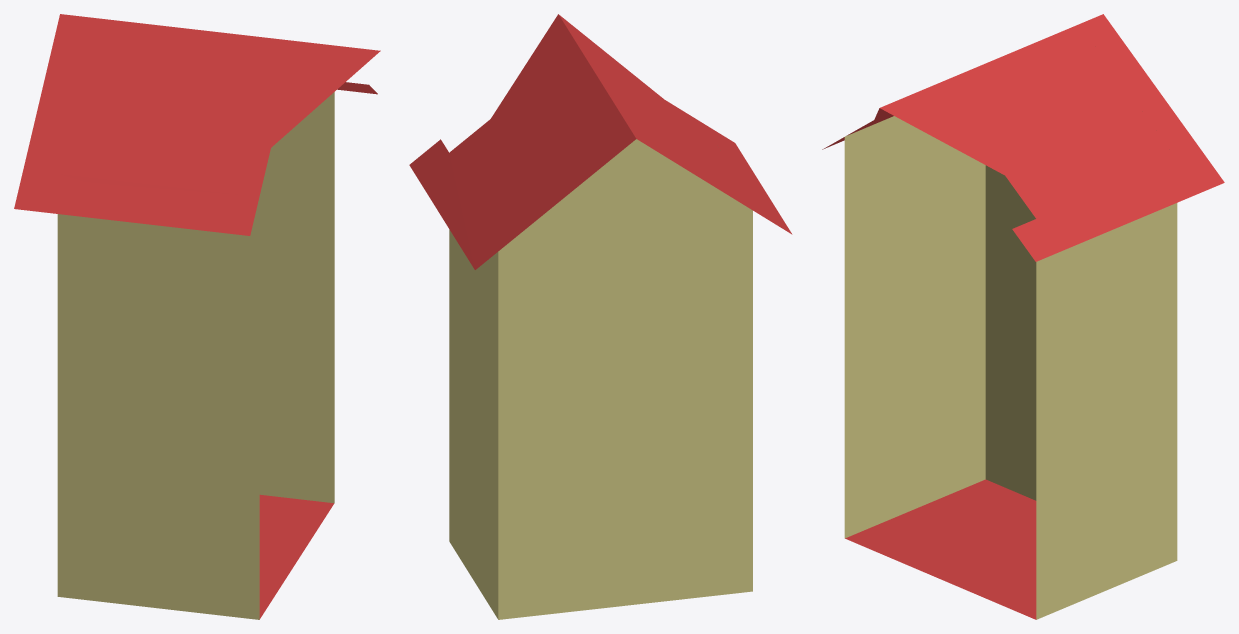
3 renders of one model, left to right at view 1: azimuth 30°, elevation 25°; view 2: azimuth 150°, elevation 25°; view 3: azimuth 270°, elevation 25°, orthographic. The views are drawn at different scales.
Size of the model in its own units: 9.53 by 8.98 by 12.16.
